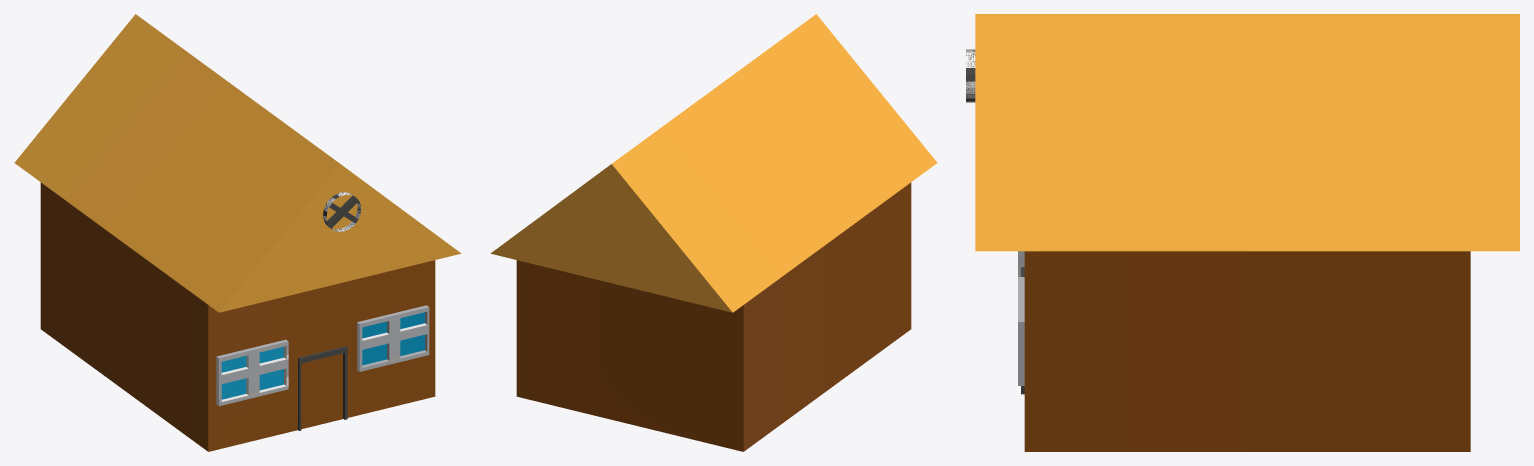
Rendered from Casa Medieval.fbx.
3 renders of one model, left to right at view 1: azimuth 30°, elevation 25°; view 2: azimuth 150°, elevation 25°; view 3: azimuth 270°, elevation 25°, orthographic. The views are drawn at different scales.
Visible parts, largest first — view 1: Tejado; view 2: Tejado; view 3: Tejado.
Boxes of the visible parts, x1=… form: Tejado: x1=14, y1=14, x2=460, y2=451; Tejado: x1=491, y1=14, x2=937, y2=451; Tejado: x1=966, y1=14, x2=1519, y2=451.
Size of the model in its own units: 324 by 350 by 482.
Materials: 1 (1 with a texture image).
